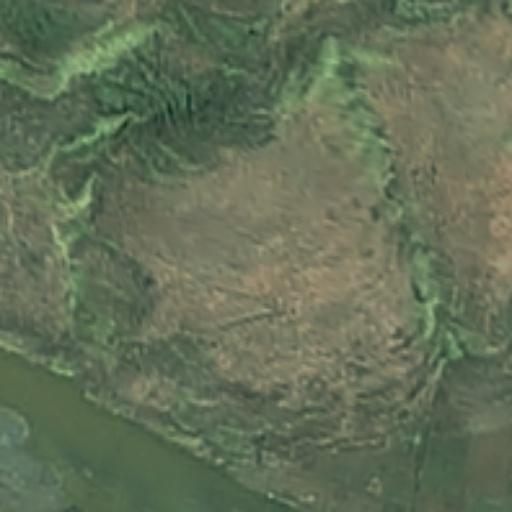landslide: (98, 105, 428, 397)
